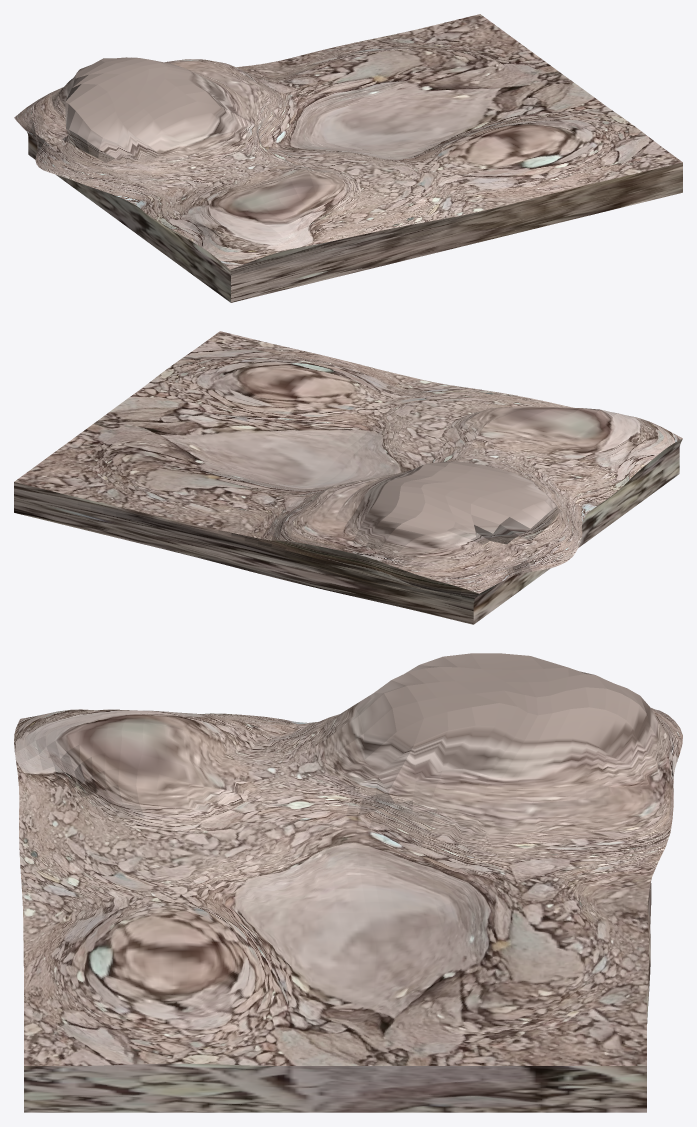
The model's file is Enwir33.fbx.
3 views of the same model, one above another, from view 1: azimuth 30°, elevation 25°; view 2: azimuth 150°, elevation 25°; view 3: azimuth 270°, elevation 25° (orthographic). The views are drawn at different scales.
Parts seen in each view (by area): view 1: Cube; view 2: Cube; view 3: Cube.
Boxes of the visible parts, left/top/right/bottom form: Cube: left=14, top=14, right=682, bottom=302; Cube: left=14, top=331, right=682, bottom=624; Cube: left=14, top=653, right=682, bottom=1112.
Size of the model in its own units: 3407 by 608 by 2605.
